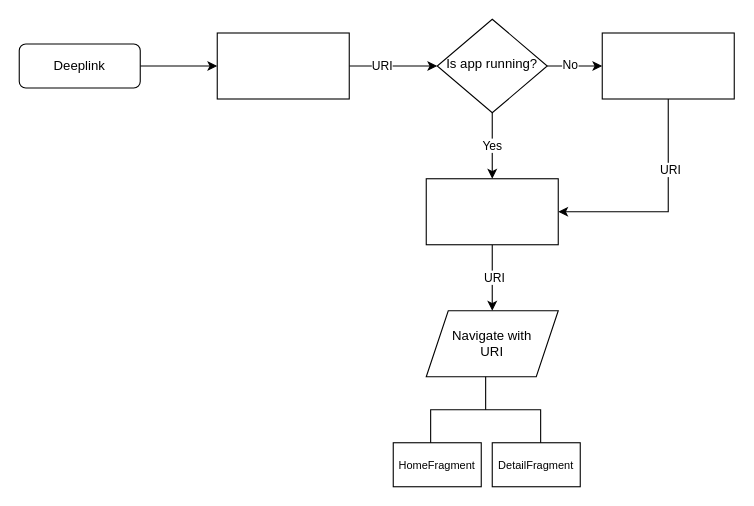
Some shapes in this 754 by 506 pixel diagram are drawn without their labels. The shapes that lost their labels are listed below. From the top down, each one's box as (x1, y1, x2, y2) in pixels, then its label:
(216, 32, 349, 99): DeeplinkActivity
(601, 32, 734, 99): SplashActivity
(425, 178, 558, 245): MainActivity
